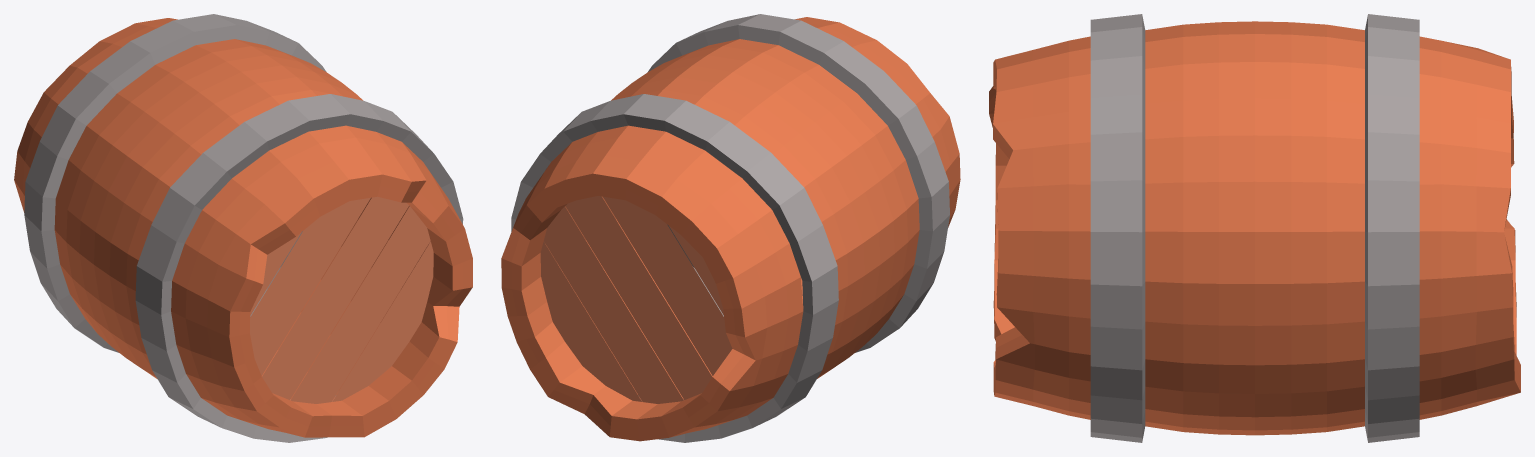
The model's file is Barril.fbx.
3 renders of one model, left to right at view 1: azimuth 30°, elevation 25°; view 2: azimuth 150°, elevation 25°; view 3: azimuth 270°, elevation 25°, orthographic. The views are drawn at different scales.
Parts seen in each view (by area): view 1: Barril_Low, Metal_Low, Tapa_01_Low; view 2: Barril_Low, Metal_Low, Tapa_02_Low; view 3: Barril_Low, Metal_Low.
Boxes of the visible parts, x1,y1,x2,y2 form: Barril_Low: (14, 18, 472, 437); Metal_Low: (24, 14, 463, 442); Tapa_01_Low: (250, 196, 433, 403); Barril_Low: (501, 17, 960, 441); Metal_Low: (511, 14, 949, 442); Tapa_02_Low: (540, 196, 732, 403); Barril_Low: (989, 21, 1520, 435); Metal_Low: (1090, 14, 1419, 442).
Size of the model in its own units: 247 by 251 by 305.
